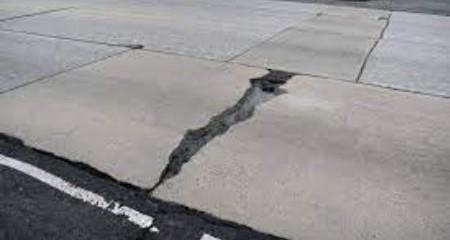pothole: (143, 66, 297, 194)
